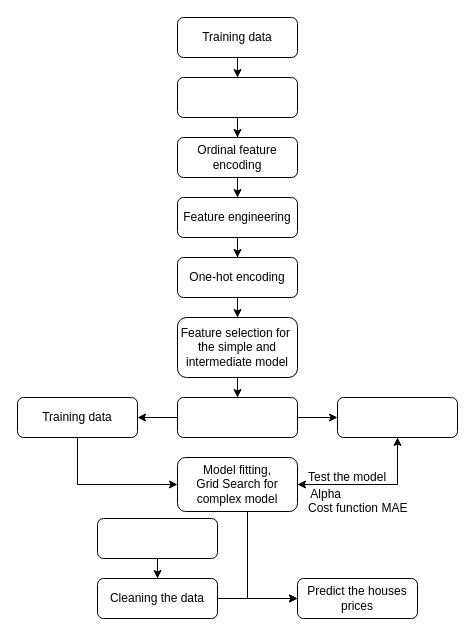
Some shapes in this 475 by 636 pixel diagram are drawn without their labels. Here are the shapes that lost their labels. From the top down, the box of each, then its label:
(176, 76, 298, 118): EDA Cleaning the data
(176, 396, 298, 438): Spliting the data 80/20
(336, 396, 458, 438): Validation data
(96, 518, 218, 558): Test data
